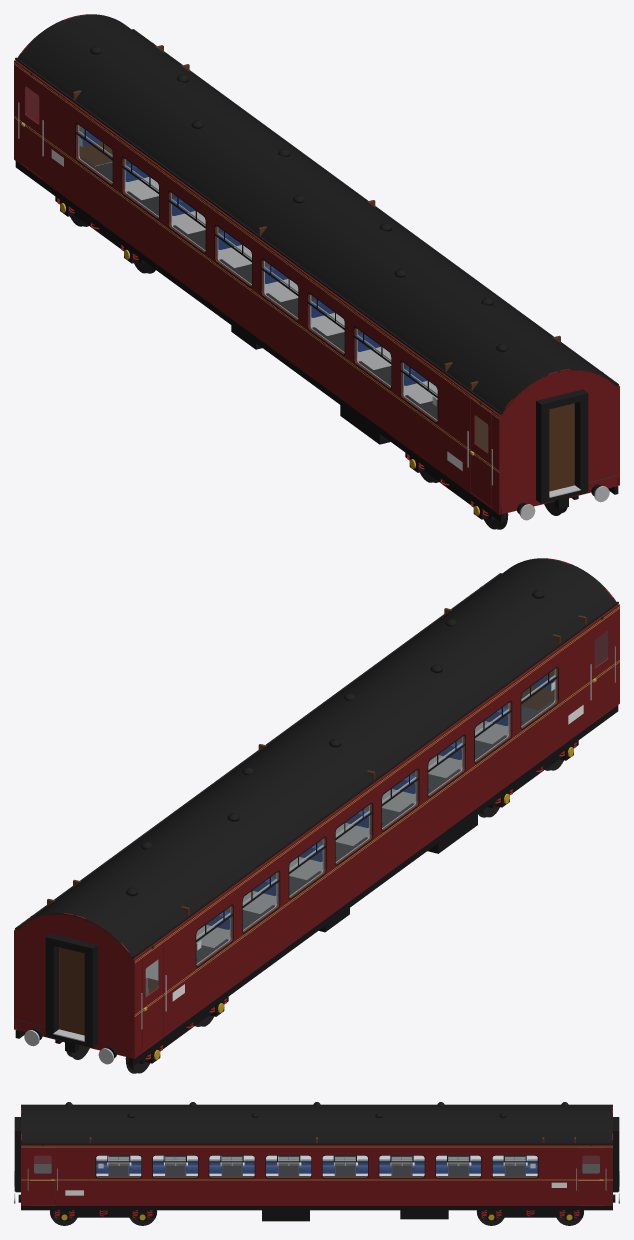
Rendered from coach_tso2b_lod0.glb.
3 views of the same model, one above another, from view 1: azimuth 30°, elevation 25°; view 2: azimuth 150°, elevation 25°; view 3: azimuth 270°, elevation 25° (orthographic). The views are drawn at different scales.
Visible parts, largest first — view 1: coach_static_roof_black, coach_static_coach_maroon, coach_static_glass, coach_static_rubber, coach_static_underframe, coach_int_decal_seatfabric, coach_int_wood_panel, coach_static_lining_gold, coach_int_table_top, gw_door_A_wood_panel, coach_int_seat_vinyl, coach_door_B_R_coach_maroon (+3 smaller); view 2: coach_static_roof_black, coach_static_coach_maroon, coach_static_glass, coach_static_rubber, coach_static_underframe, coach_int_decal_seatfabric, coach_static_lining_gold, coach_int_wood_panel, coach_int_table_top, gw_door_B_wood_panel, coach_int_seat_vinyl, coach_door_A_R_coach_maroon (+3 smaller); view 3: coach_static_coach_maroon, coach_static_roof_black, coach_static_glass, coach_static_underframe, coach_static_rubber, coach_int_seat_vinyl, coach_int_table_top, coach_static_lining_gold, coach_int_decal_seatfabric, coach_int_steel, coach_door_A_L_coach_maroon, coach_door_B_L_coach_maroon (+6 smaller).
Part boxes in pixels (x1,y1,x2,y2): coach_static_roof_black: [15, 14, 618, 415]; coach_static_coach_maroon: [14, 14, 619, 514]; coach_static_glass: [76, 124, 437, 421]; coach_static_rubber: [75, 122, 588, 503]; coach_static_underframe: [15, 161, 618, 522]; coach_int_decal_seatfabric: [95, 162, 437, 403]; coach_int_wood_panel: [17, 45, 560, 452]; coach_static_lining_gold: [14, 62, 499, 472]; coach_int_table_top: [80, 157, 437, 420]; gw_door_A_wood_panel: [549, 403, 574, 491]; coach_int_seat_vinyl: [79, 130, 427, 385]; coach_door_B_R_coach_maroon: [21, 69, 42, 178]; coach_static_roof_black: [15, 558, 618, 959]; coach_static_coach_maroon: [14, 558, 619, 1058]; coach_static_glass: [196, 668, 557, 965]; coach_static_rubber: [45, 666, 558, 1047]; coach_static_underframe: [15, 705, 618, 1066]; coach_int_decal_seatfabric: [145, 721, 508, 980]; coach_static_lining_gold: [134, 606, 619, 1016]; coach_int_wood_panel: [47, 605, 616, 995]; coach_int_table_top: [196, 701, 553, 964]; gw_door_B_wood_panel: [59, 947, 84, 1035]; coach_int_seat_vinyl: [148, 676, 554, 987]; coach_door_A_R_coach_maroon: [591, 613, 612, 722]; coach_static_coach_maroon: [21, 1106, 612, 1205]; coach_static_roof_black: [21, 1102, 612, 1144]; coach_static_glass: [96, 1156, 537, 1177]; coach_static_underframe: [16, 1191, 617, 1221]; coach_static_rubber: [14, 1117, 619, 1191]; coach_int_seat_vinyl: [96, 1155, 537, 1173]; coach_int_table_top: [97, 1155, 536, 1176]; coach_static_lining_gold: [21, 1146, 612, 1180]; coach_int_decal_seatfabric: [96, 1155, 537, 1175]; coach_int_steel: [96, 1157, 537, 1176]; coach_door_A_L_coach_maroon: [30, 1147, 55, 1204]; coach_door_B_L_coach_maroon: [578, 1147, 603, 1204].
Bounding box in the file's own units: 2.9 × 3.99 × 20.12.
